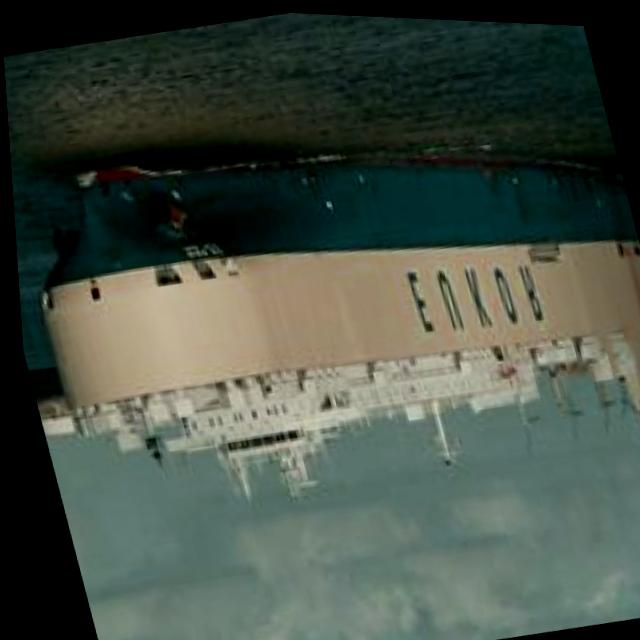ship2: (36, 152, 640, 496)
